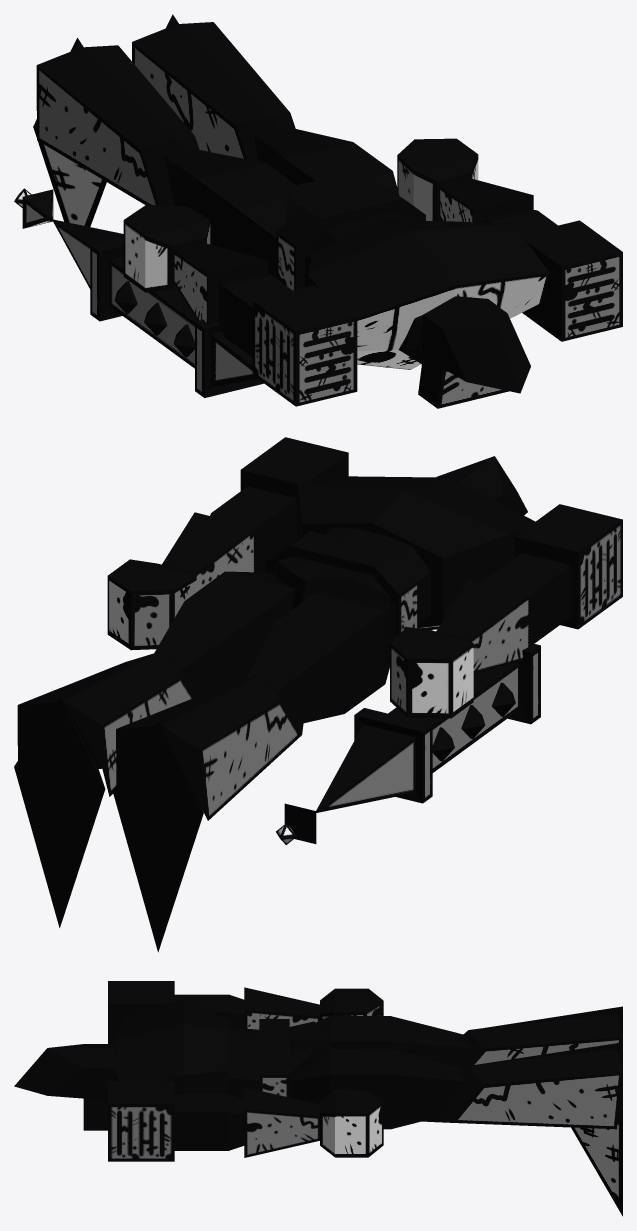
Rendered from Cop.glb.
3 views of the same model, one above another, from view 1: azimuth 30°, elevation 25°; view 2: azimuth 150°, elevation 25°; view 3: azimuth 270°, elevation 25° (orthographic). The views are drawn at different scales.
Visible parts, largest first — view 1: Lower Legs, Chest, Shoulders, Upper Legs, Gun, Hands, Head, Core, Lower Arm, Upper Arm, Feet, Neck; view 2: Upper Legs, Lower Legs, Feet, Chest, Gun, Hands, Shoulders, Lower Arm, Core, Upper Arm, Head; view 3: Lower Legs, Upper Legs, Chest, Shoulders, Lower Arm, Core, Hands, Upper Arm, Head, Feet.
Part boxes in pixels (<box>): Lower Legs: <box>36,22,295,205</box>; Chest: <box>308,220,549,369</box>; Shoulders: <box>252,220,622,406</box>; Upper Legs: <box>164,127,399,278</box>; Gun: <box>14,188,263,397</box>; Hands: <box>123,138,478,292</box>; Head: <box>418,296,530,408</box>; Core: <box>276,175,425,290</box>; Lower Arm: <box>173,178,533,324</box>; Upper Arm: <box>218,208,557,357</box>; Feet: <box>33,14,178,226</box>; Neck: <box>398,315,422,364</box>; Upper Legs: <box>154,571,395,724</box>; Lower Legs: <box>17,650,303,820</box>; Feet: <box>14,697,203,952</box>; Chest: <box>298,476,535,630</box>; Gun: <box>276,643,540,844</box>; Hands: <box>107,559,473,718</box>; Shoulders: <box>240,437,622,629</box>; Lower Arm: <box>162,512,530,674</box>; Core: <box>265,527,430,636</box>; Upper Arm: <box>210,486,571,643</box>; Head: <box>436,456,527,515</box>; Lower Legs: <box>422,1006,622,1129</box>; Upper Legs: <box>291,1016,471,1129</box>; Chest: <box>114,998,228,1094</box>; Shoulders: <box>108,981,174,1161</box>; Lower Arm: <box>244,987,319,1157</box>; Core: <box>229,1019,332,1099</box>; Hands: <box>320,988,383,1157</box>; Upper Arm: <box>174,994,244,1150</box>; Head: <box>14,1044,113,1130</box>; Feet: <box>571,1008,622,1216</box>.
Size of the model in its own units: 0.9963 by 0.64 by 2.01.
Materials: 2 (2 with a texture image).
